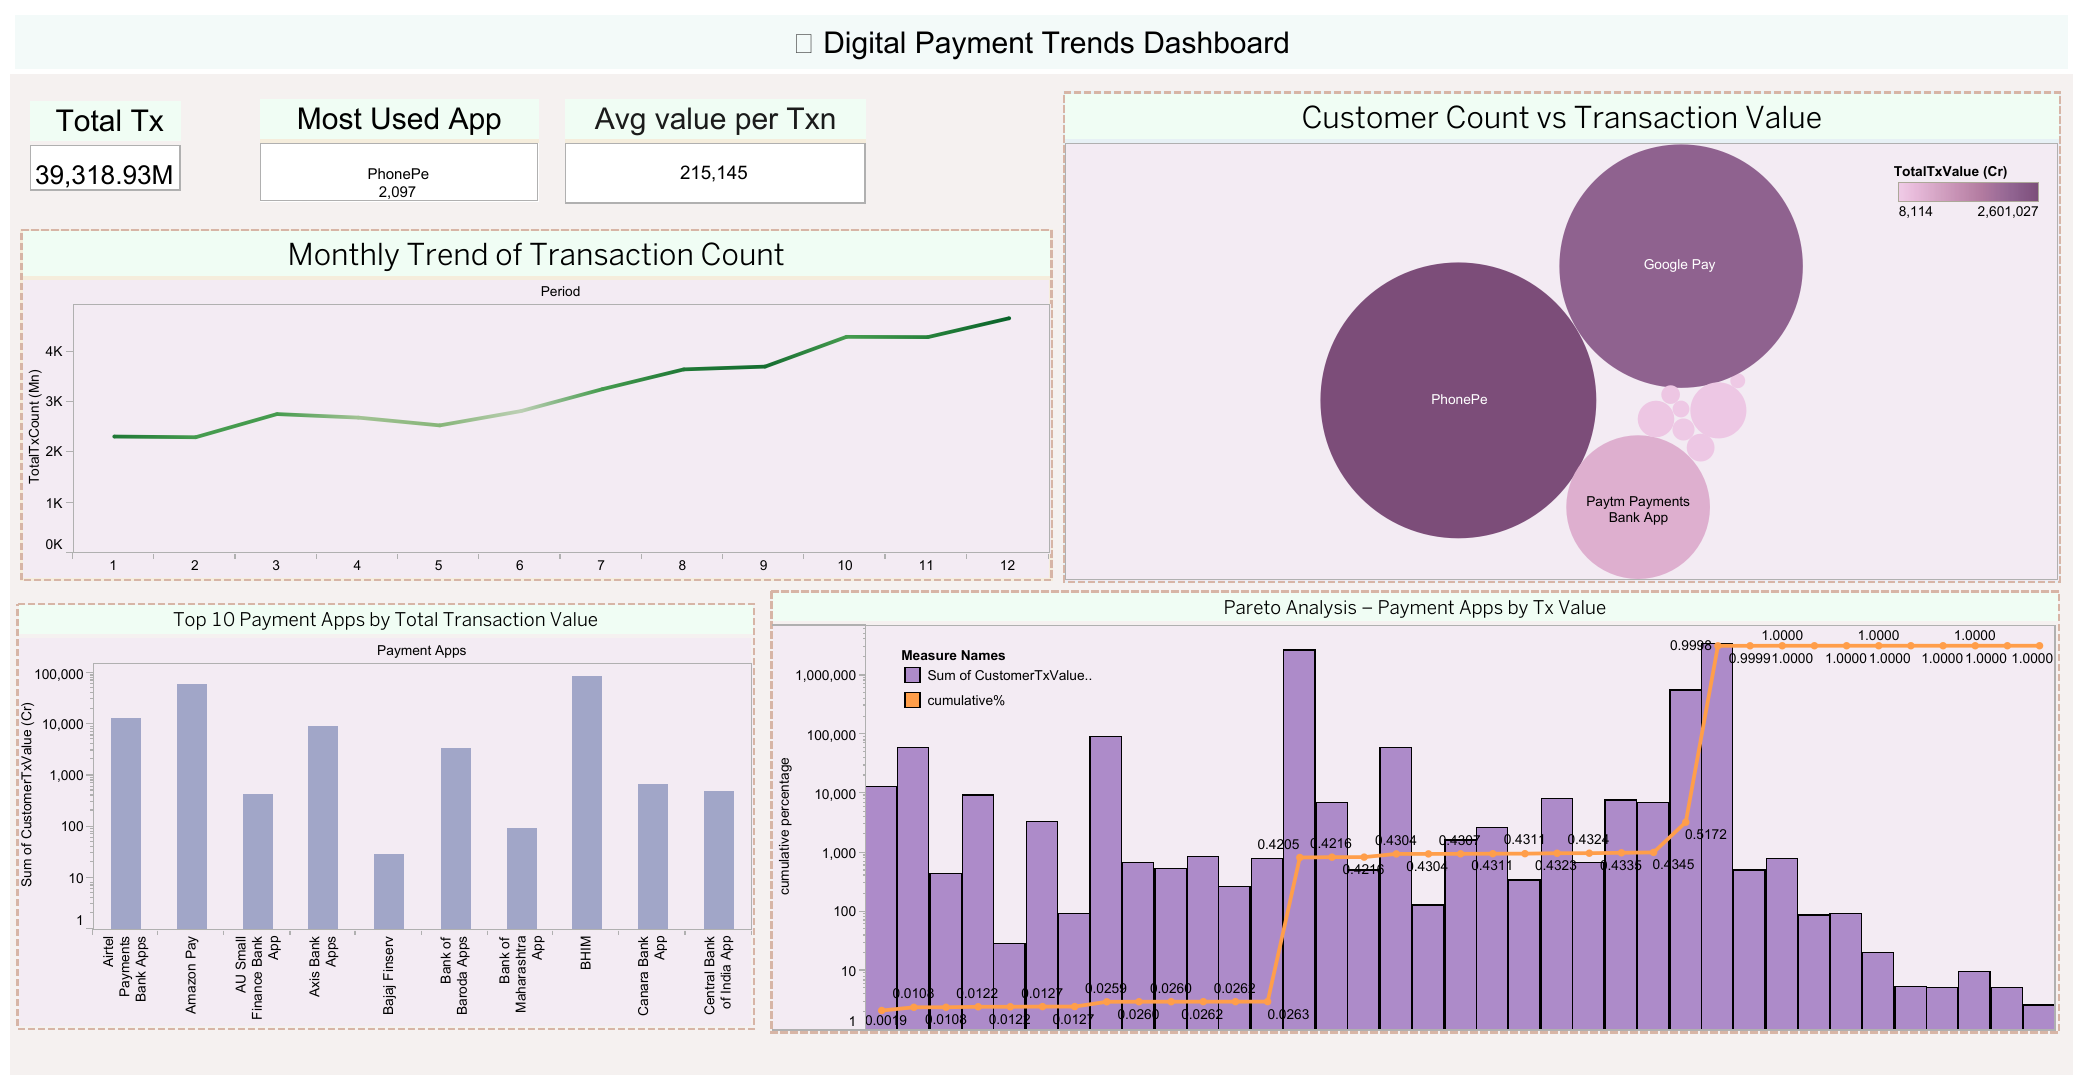

The page's visual inventory and layout, read from the dashboard file:
{"tool":"tableau","page":{"name":"Dashboard 1","canvas":[1666,868],"ordinal":0},"visuals":[{"type":"title","box":[8,8,1650,51]},{"type":"worksheet","title":"Sheet 3","mark":"Circle","box":[850,73,799,393]},{"type":"worksheet","title":"Sheet 8","mark":"Automatic","box":[208,79,223,82]},{"type":"worksheet","title":"Sheet 9","mark":"Automatic","box":[452,79,241,84]},{"type":"worksheet","title":"Sheet 7","mark":"Automatic","box":[24,81,163,81]},{"type":"legend","title":"Sheet 3","param":"[federated.1rcvs810aumgd70zpf02z0azp6nq].[sum:TotalTxValue (Cr):qk]","box":[1515,127,121,53]},{"type":"worksheet","title":"Sheet 1","mark":"Line","rows":["TotalTxCount (Mn)"],"cols":["Period"],"box":[16,183,826,282]},{"type":"worksheet","title":"Sheet 5","mark":"Line","rows":["CustomerTxValue (Cr)","Calculation_1253689572966391809"],"cols":["PaymentApps"],"box":[616,472,1032,355]},{"type":"worksheet","title":"Sheet 2","mark":"Automatic","rows":["CustomerTxValue (Cr)"],"cols":["PaymentApps"],"box":[13,482,591,342]},{"type":"legend","title":"Sheet 5","param":"[federated.1rcvs810aumgd70zpf02z0azp6nq].[:Measure Names]","box":[720,516,154,61]}]}

Visuals, with their boxes in screenshot pixels (x1, y1, x2, y2), scaled from the page's 1666x868 canvas onto the 2081x1084 screenshot:
title: 10 10 2071 74
"Sheet 3" worksheet (Circle marks): 1062 91 2060 582
"Sheet 8" worksheet: 260 99 538 201
"Sheet 9" worksheet: 565 99 866 204
"Sheet 7" worksheet: 30 101 234 202
"Sheet 3" legend: 1892 159 2044 225
"Sheet 1" worksheet (Line marks): 20 229 1052 581
"Sheet 5" worksheet (Line marks): 769 589 2059 1033
"Sheet 2" worksheet: 16 602 754 1029
"Sheet 5" legend: 899 644 1092 721
